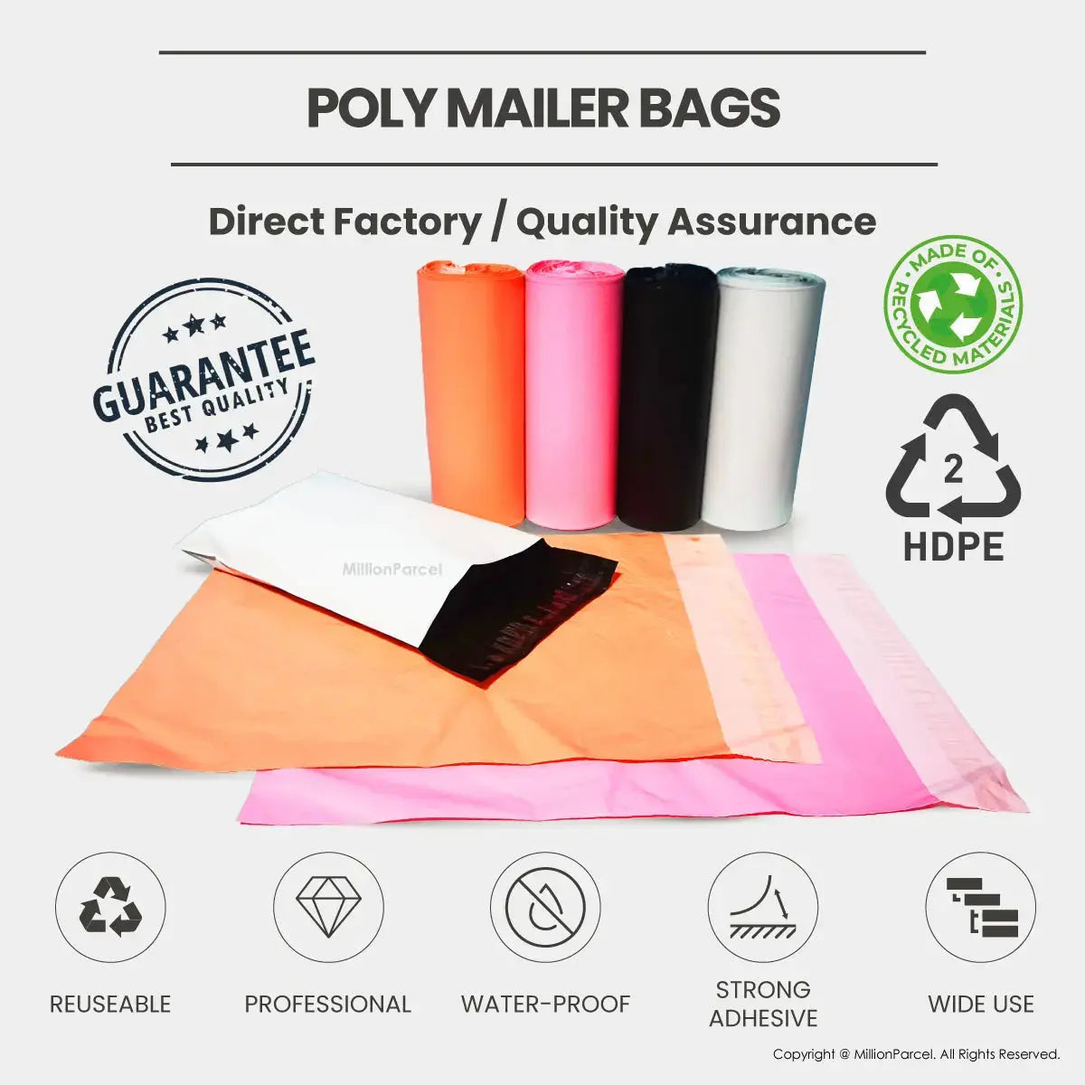塑料袋: (244, 552, 1027, 825), (61, 536, 812, 772), (183, 473, 619, 688), (702, 268, 824, 531), (418, 260, 525, 526), (616, 264, 719, 533), (526, 260, 623, 530)
